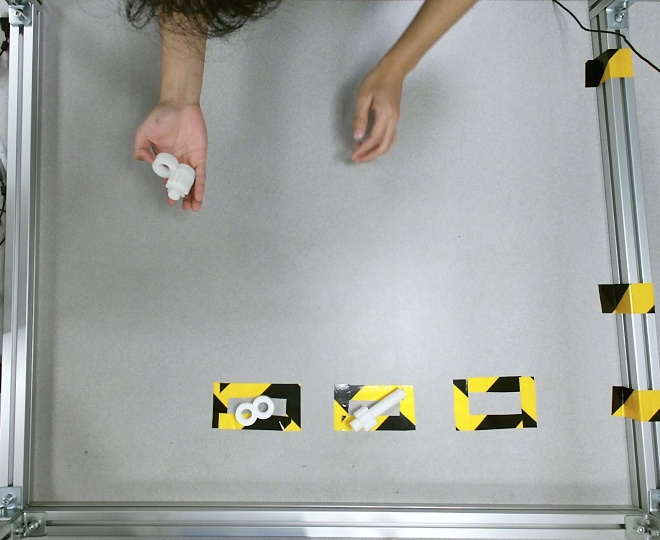stage_2: (152, 152, 196, 201)
